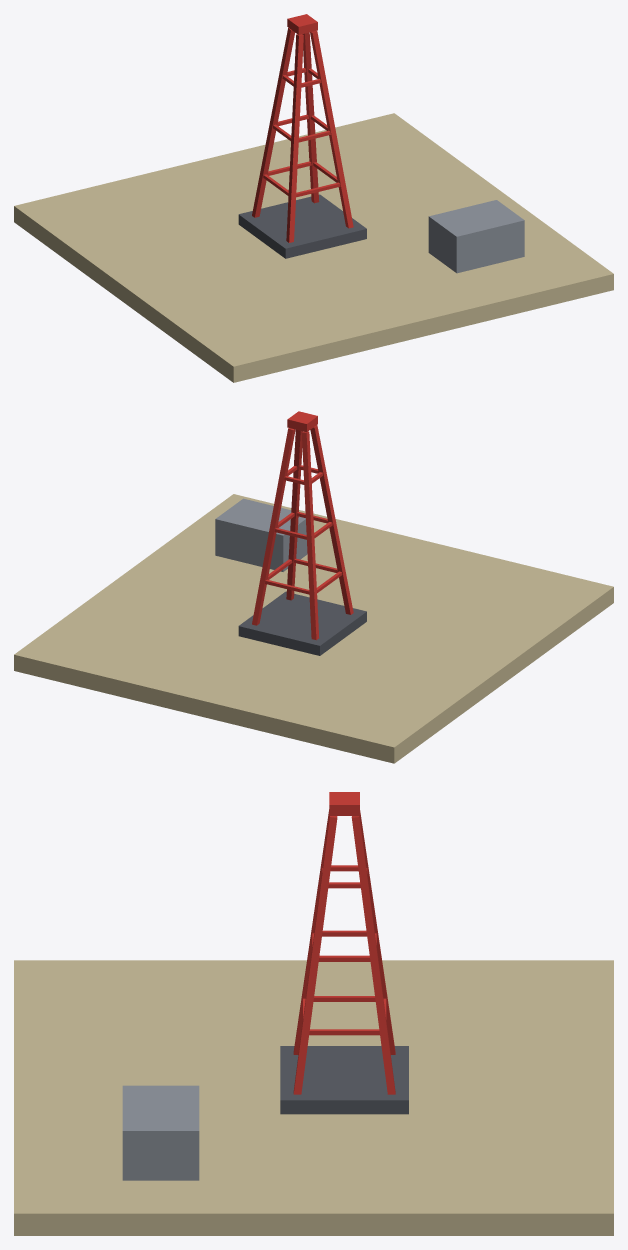
File: oil_rent_1.glb
The picture shows the model from 3 angles, top to bottom: view 1: azimuth 30°, elevation 25°; view 2: azimuth 150°, elevation 25°; view 3: azimuth 270°, elevation 25°; orthographic projection. The views are drawn at different scales.
Visible parts, largest first — view 1: oil_rent_1; view 2: oil_rent_1; view 3: oil_rent_1.
Boxes of the visible parts, x1,y1,x2,y2 form: oil_rent_1: (14,14,613,382); oil_rent_1: (14,411,613,763); oil_rent_1: (14,792,613,1235).
Bounding box in the file's own units: 1.96 × 1.12 × 1.96.
